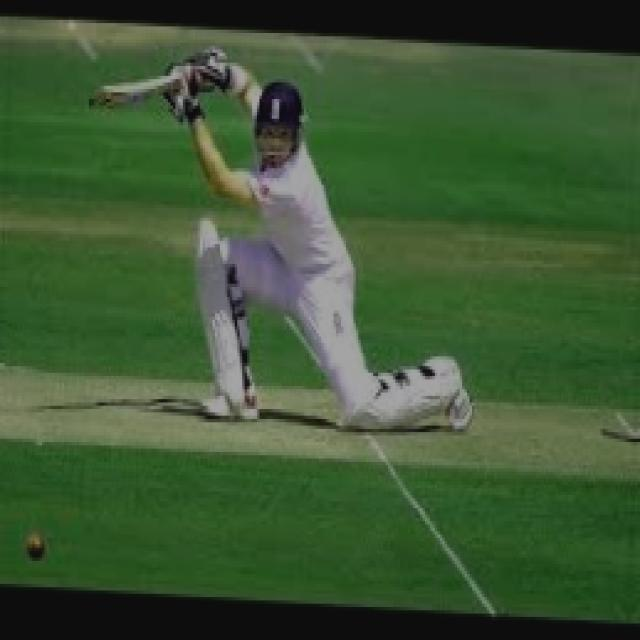bat: (71, 73, 203, 124)
toe: (83, 85, 123, 108)
